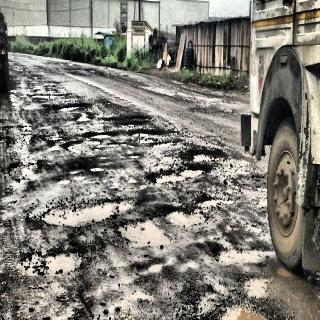pothole: (40, 191, 232, 247), (23, 248, 83, 280), (215, 246, 277, 268), (130, 126, 180, 153), (152, 166, 206, 185), (244, 272, 271, 308), (190, 147, 226, 164), (90, 132, 113, 144), (59, 102, 82, 111), (76, 115, 93, 124)
